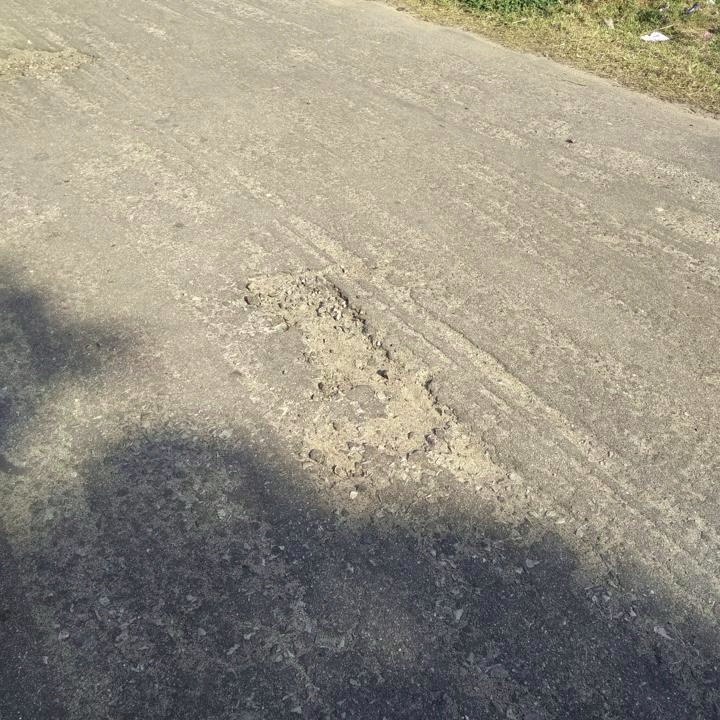pothole: (241, 265, 455, 470)
